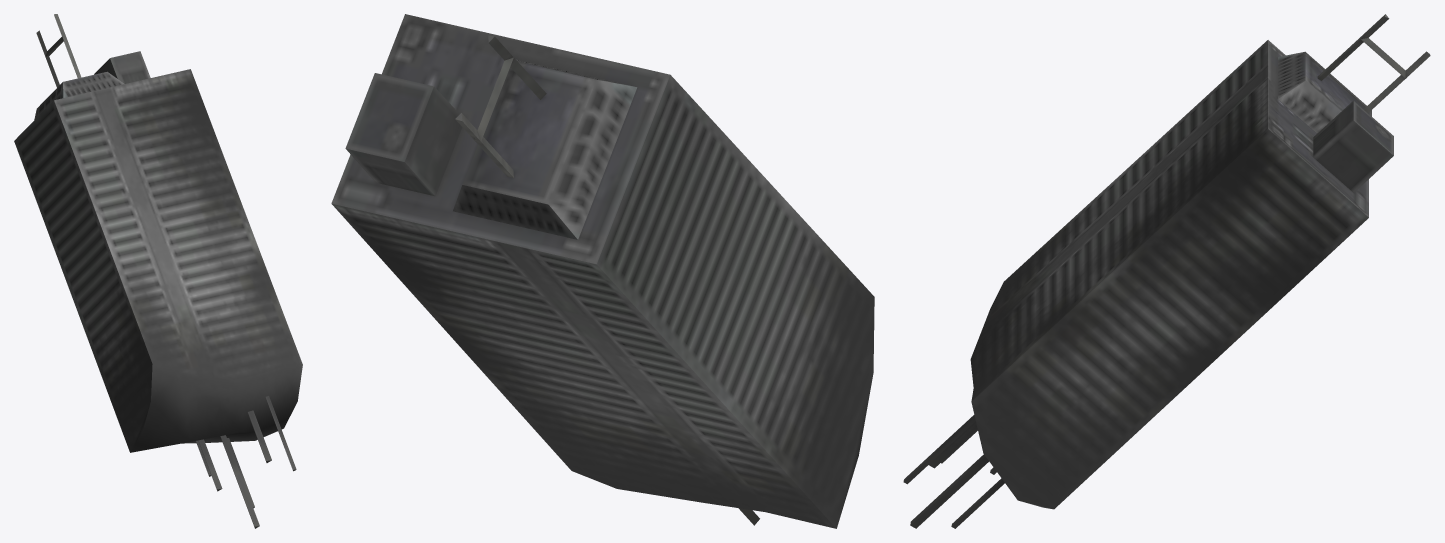
The model's file is skyBuildingAAC_pos_grp (25).fbx.
3 views of the same model, side by side, from view 1: azimuth 30°, elevation 25°; view 2: azimuth 150°, elevation 25°; view 3: azimuth 270°, elevation 25° (orthographic). The views are drawn at different scales.
Parts seen in each view (by area): view 1: skyBuildingAAC_geo; view 2: skyBuildingAAC_geo; view 3: skyBuildingAAC_geo.
Boxes of the visible parts, box(x1,y1,x2,y2) form: skyBuildingAAC_geo: box(14, 14, 302, 528); skyBuildingAAC_geo: box(331, 14, 874, 528); skyBuildingAAC_geo: box(903, 14, 1430, 528).
Bounding box in the file's own units: 4.42 × 11.54 × 10.98.
1 material, 1 textured.
